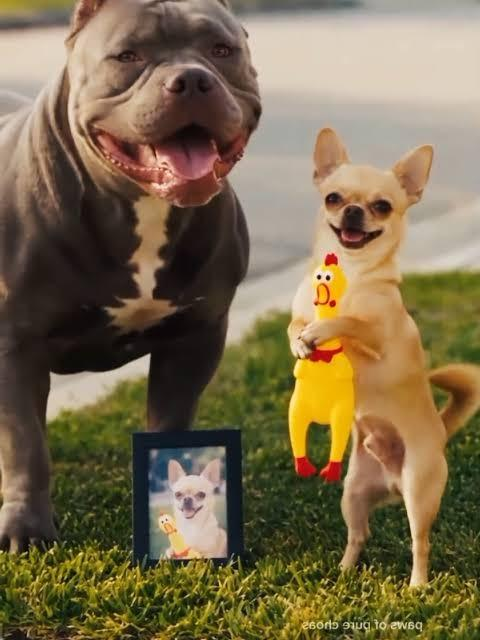adult_dog: (0, 1, 268, 553), (286, 120, 480, 601)
non-dog: (290, 251, 357, 484), (133, 430, 244, 569)
